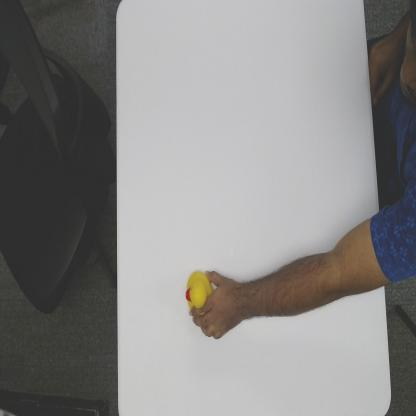Arm: (241, 216, 386, 322)
Duck: (185, 266, 222, 328)
Hand: (190, 269, 242, 342)
